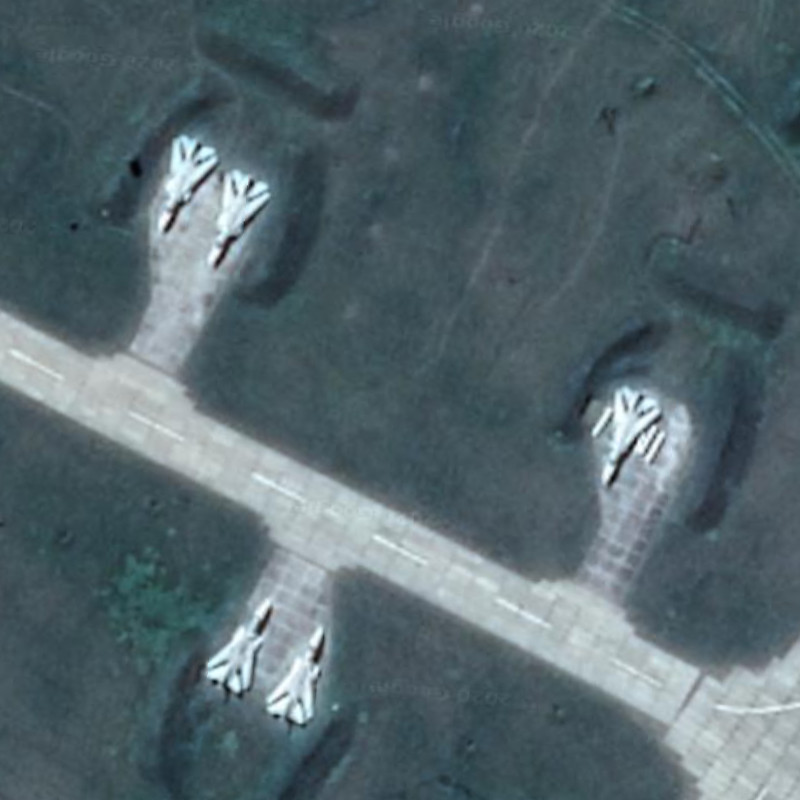A20: (595, 378, 670, 496), (203, 596, 275, 699), (152, 125, 215, 238), (265, 619, 327, 733), (207, 169, 274, 272)
